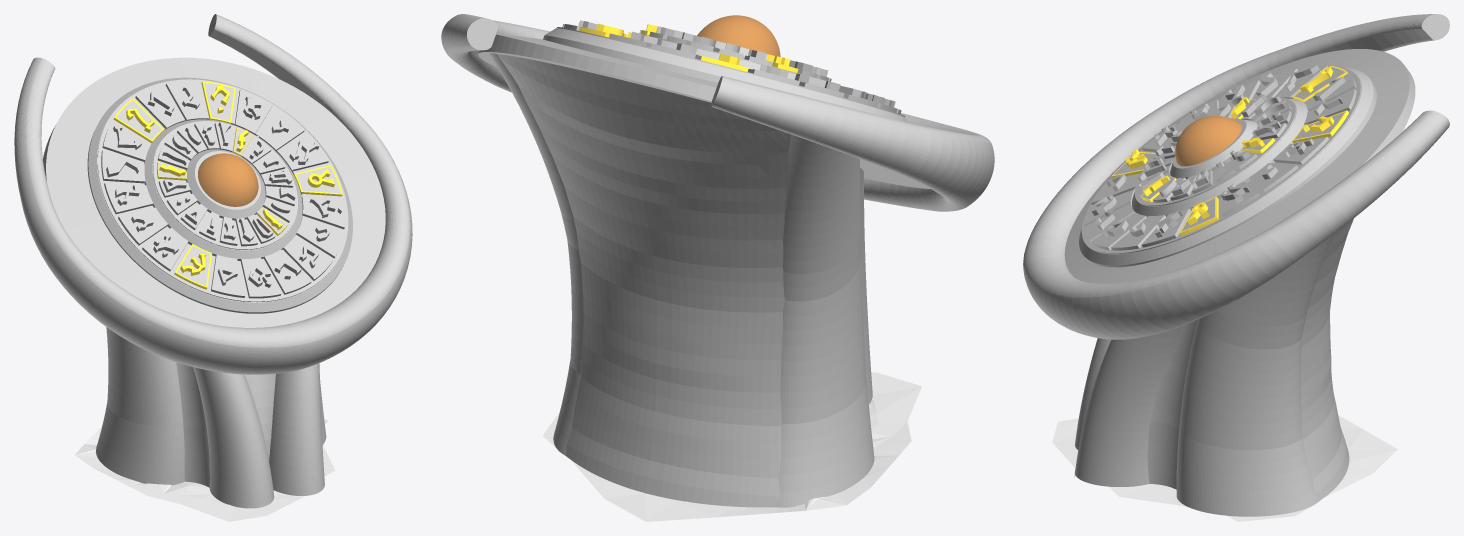
File: dhd.glb
The picture shows the model from 3 angles, left to right: view 1: azimuth 30°, elevation 25°; view 2: azimuth 150°, elevation 25°; view 3: azimuth 270°, elevation 25°; orthographic projection. The views are drawn at different scales.
Parts seen in each view (by area): view 1: stargate.002; view 2: stargate.002; view 3: stargate.002.
Part boxes in pixels (left/top/right/bottom): stargate.002: left=14, top=14, right=412, bottom=521; stargate.002: left=441, top=14, right=994, bottom=521; stargate.002: left=1023, top=14, right=1449, bottom=521.
Size of the model in its own units: 0.0787 by 0.0755 by 0.0734.
